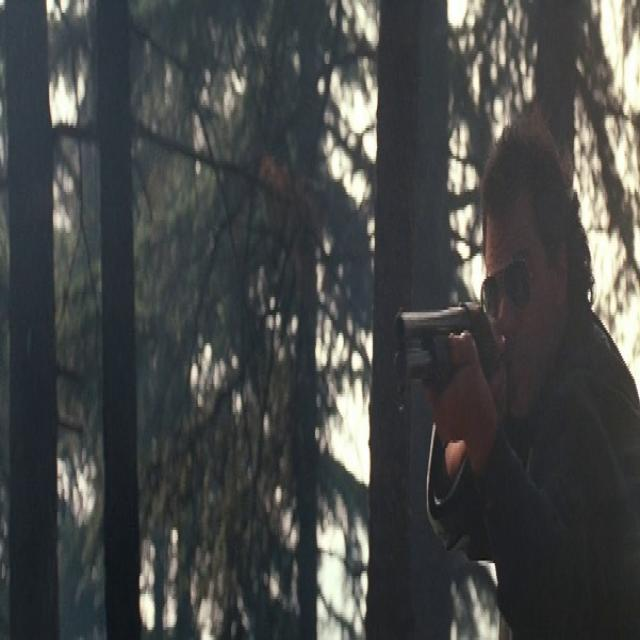rifle: (394, 287, 506, 407)
